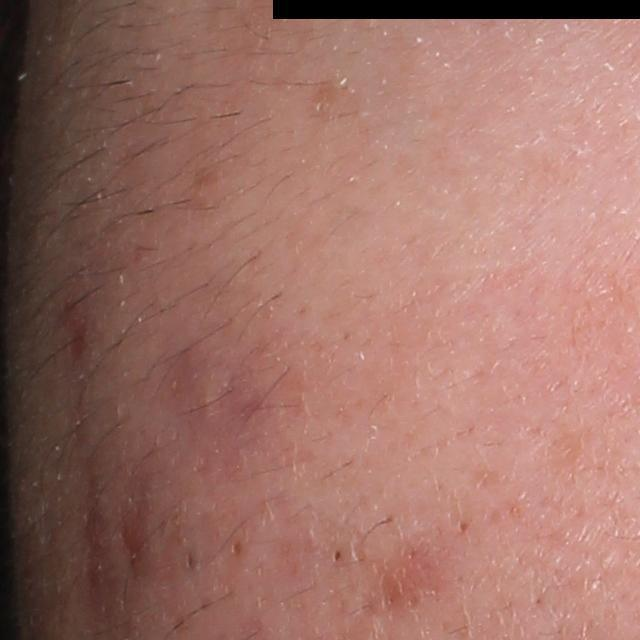comedo: (183, 550, 201, 572), (456, 516, 475, 536)
